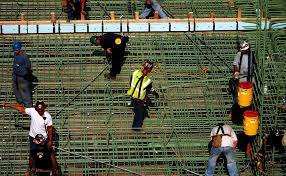vest: (130, 72, 149, 99)
